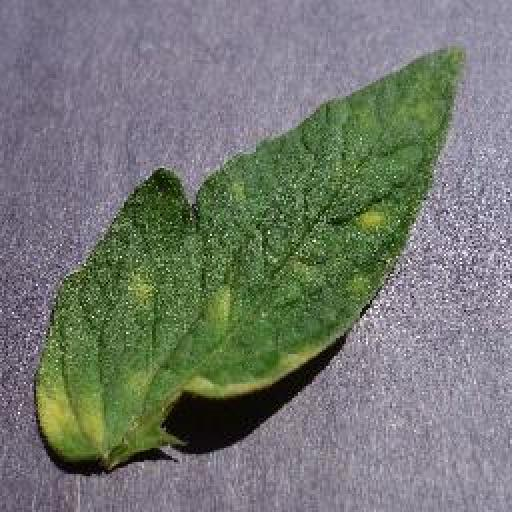Leaf Mold: (32, 46, 466, 466)
